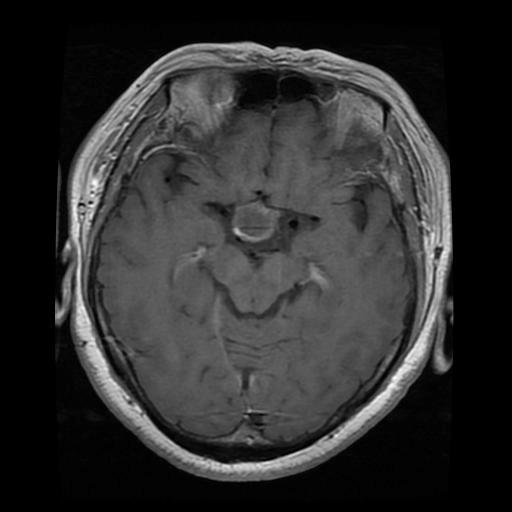Tumour-Pituitary: (231, 201, 279, 246)
